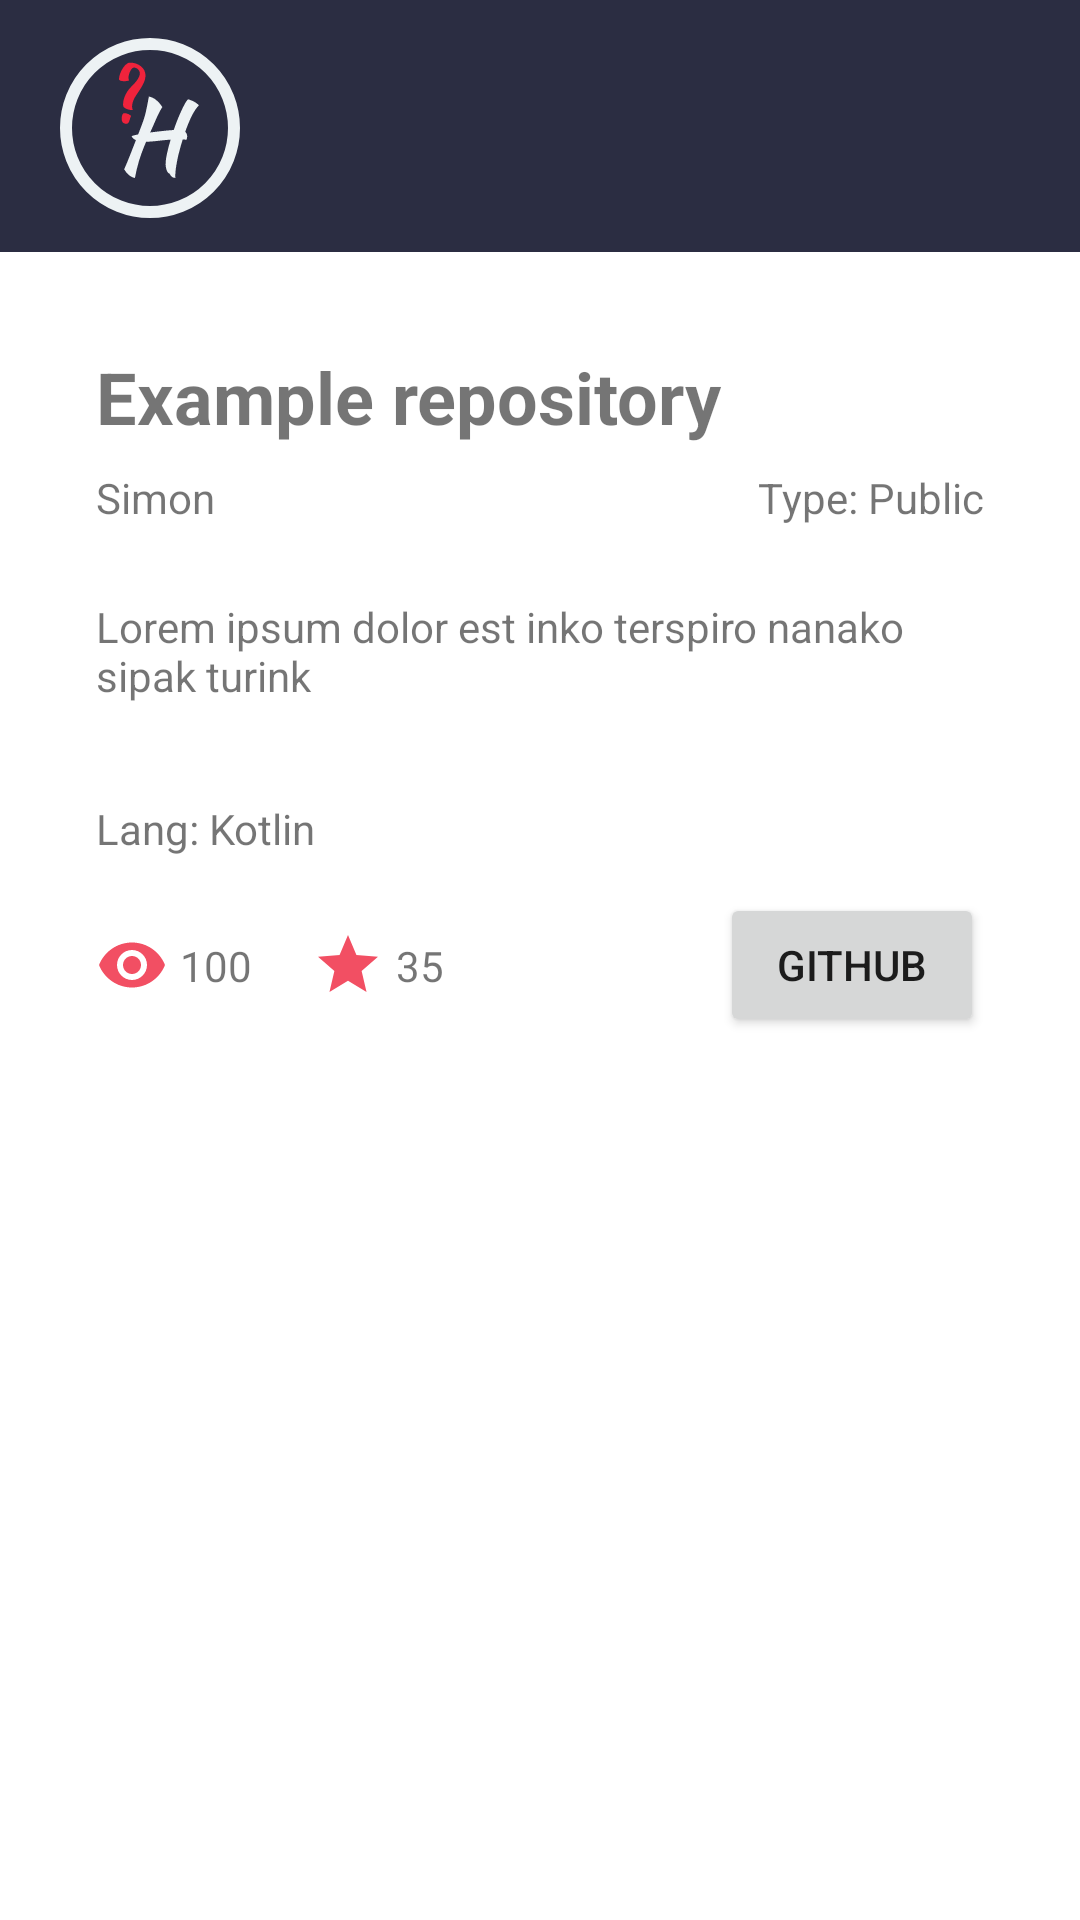

Icon bounding boxes for this 1080w x 1920h phone screenshot, format bbox(x1, y1, x2, y2):
eye: bbox(99, 942, 165, 988)
Star: bbox(318, 935, 378, 992)
